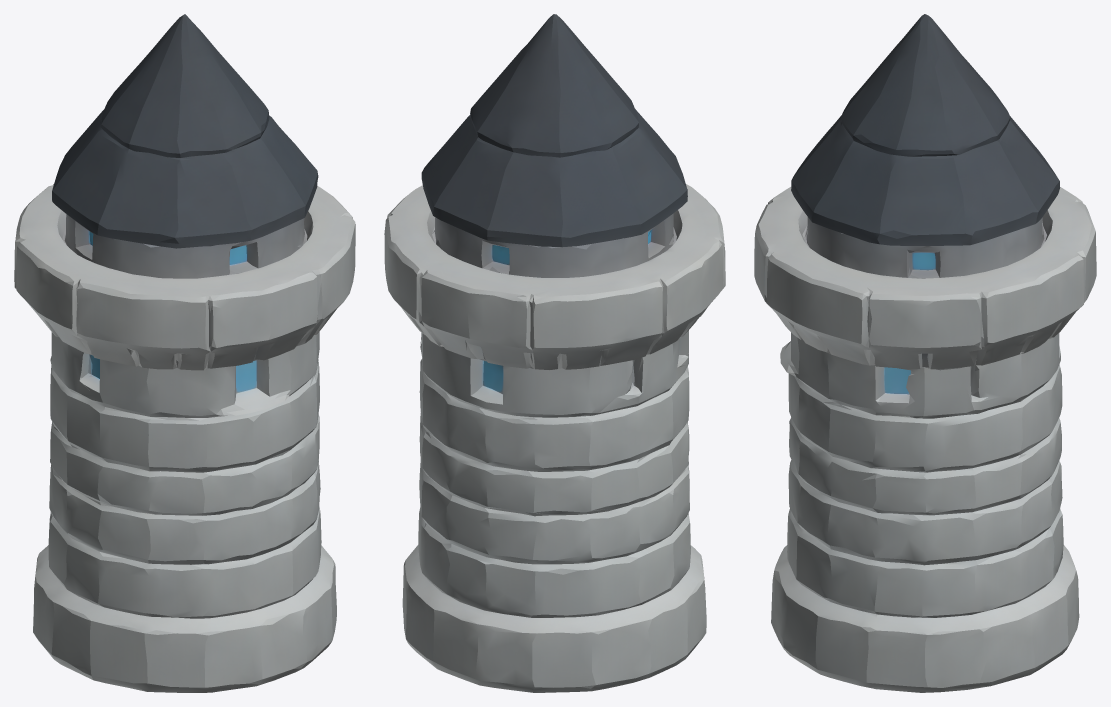
3 views of the same model, side by side, from view 1: azimuth 30°, elevation 25°; view 2: azimuth 150°, elevation 25°; view 3: azimuth 270°, elevation 25° (orthographic).
Parts seen in each view (by area): view 1: model; view 2: model; view 3: model.
Part boxes in pixels (box(x1,y1,x2,y2)): model: box(14, 14, 355, 692); model: box(384, 14, 725, 692); model: box(754, 14, 1096, 692).
Size of the model in its own units: 96.08 by 193 by 96.9.
Materials: 1 (1 with a texture image).
